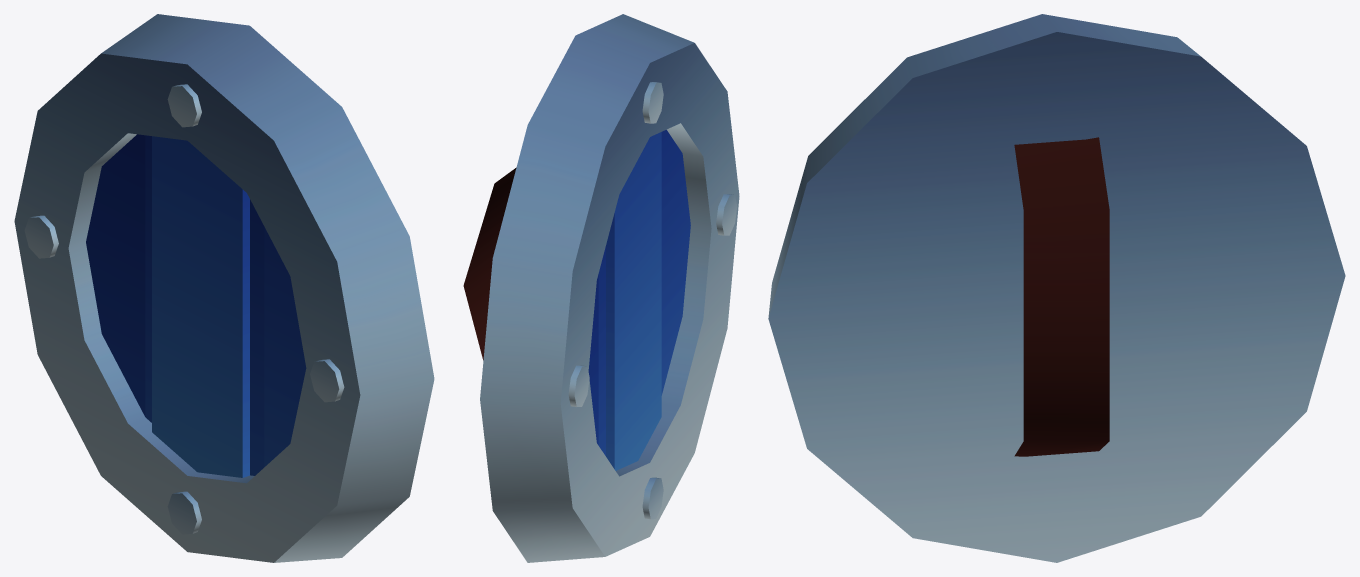
Rendered from Shield Amateur.FBX.
3 renders of one model, left to right at view 1: azimuth 30°, elevation 25°; view 2: azimuth 150°, elevation 25°; view 3: azimuth 270°, elevation 25°, orthographic. The views are drawn at different scales.
Parts seen in each view (by area): view 1: Shield Amateur; view 2: Shield Amateur; view 3: Shield Amateur.
Boxes of the visible parts, x1,y1,x2,y2 form: Shield Amateur: (14,14,434,562); Shield Amateur: (463,14,739,562); Shield Amateur: (768,14,1345,562).
Size of the model in its own units: 22.93 by 56.61 by 55.75.
